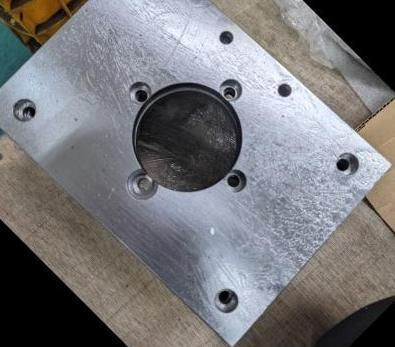hole: (113, 157, 168, 212), (0, 85, 48, 133), (325, 141, 371, 187), (207, 65, 253, 111), (117, 72, 163, 117), (213, 157, 259, 202), (204, 277, 248, 321), (268, 72, 302, 106), (210, 21, 241, 52)
